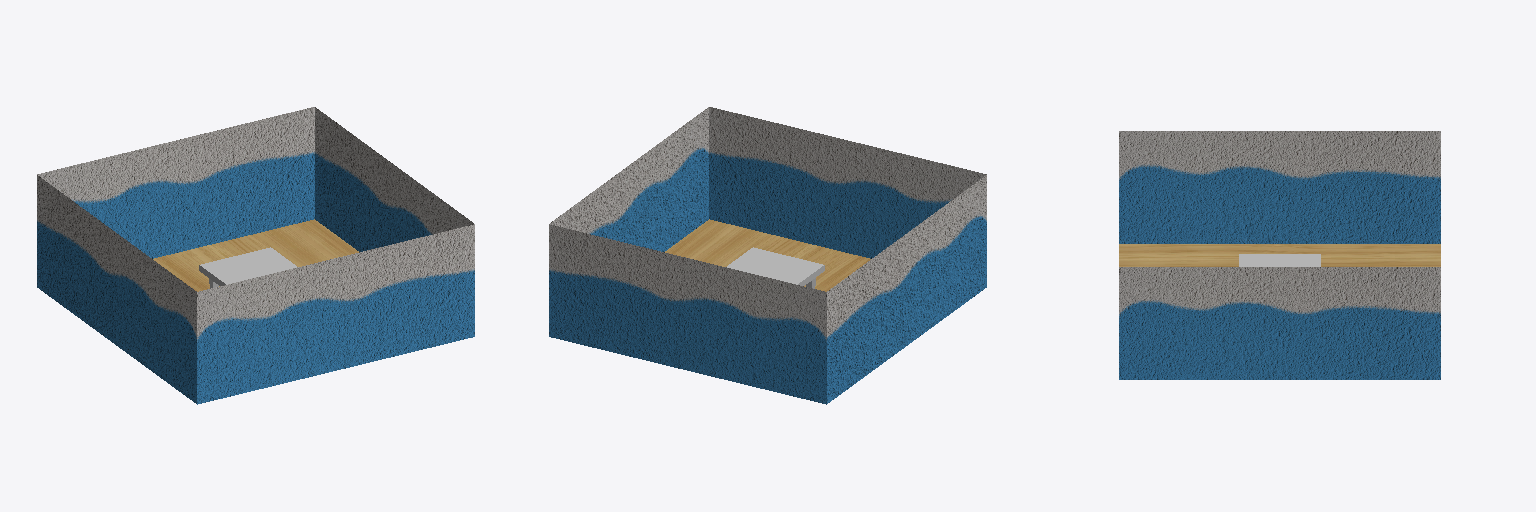
3 views of the same model, side by side, from view 1: azimuth 30°, elevation 25°; view 2: azimuth 150°, elevation 25°; view 3: azimuth 270°, elevation 25° (orthographic).
Parts seen in each view (by area): view 1: Plane, Cube; view 2: Plane, Cube; view 3: Plane, Cube.
Boxes of the visible parts, box(x1,y1,x2,y2) form: Plane: box(37, 107, 474, 404); Cube: box(199, 247, 296, 288); Plane: box(549, 107, 986, 404); Cube: box(727, 247, 824, 288); Plane: box(1119, 131, 1440, 379); Cube: box(1239, 254, 1320, 266).
Size of the model in its own units: 7.74 by 3.02 by 7.74.
2 materials, 1 textured.